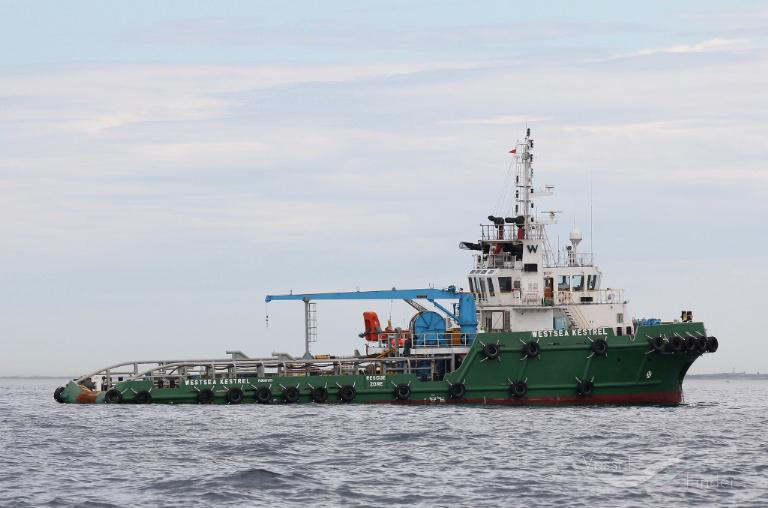OCR: (177, 370, 255, 388), (528, 327, 610, 342), (362, 372, 390, 390)
